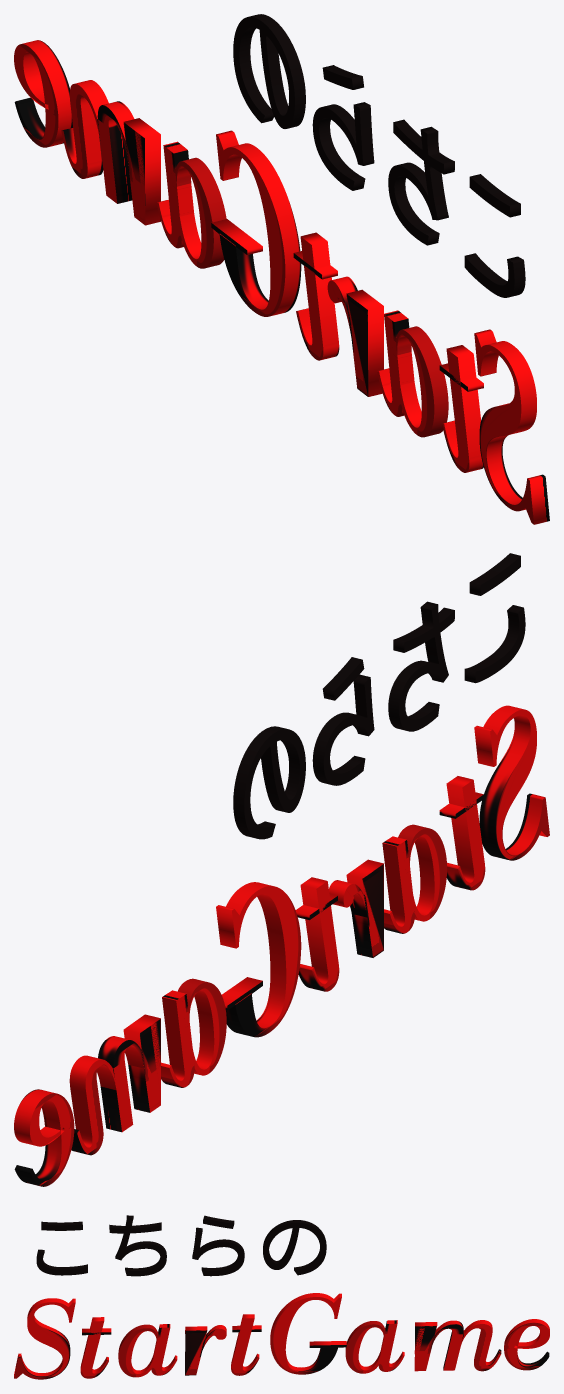
Rendered from Title_Select2.obj.
3 views of the same model, one above another, from view 1: azimuth 30°, elevation 25°; view 2: azimuth 150°, elevation 25°; view 3: azimuth 270°, elevation 25° (orthographic). The views are drawn at different scales.
Visible parts, largest first — view 1: テキスト.003; view 2: テキスト.003; view 3: テキスト.003.
Boxes of the visible parts, <box> form: テキスト.003: <box>14,14,549,524</box>; テキスト.003: <box>14,553,549,1186</box>; テキスト.003: <box>14,1215,549,1379</box>.
Bounding box in the file's own units: 0.0828 × 1.56 × 4.7.
1 material, 1 textured.
